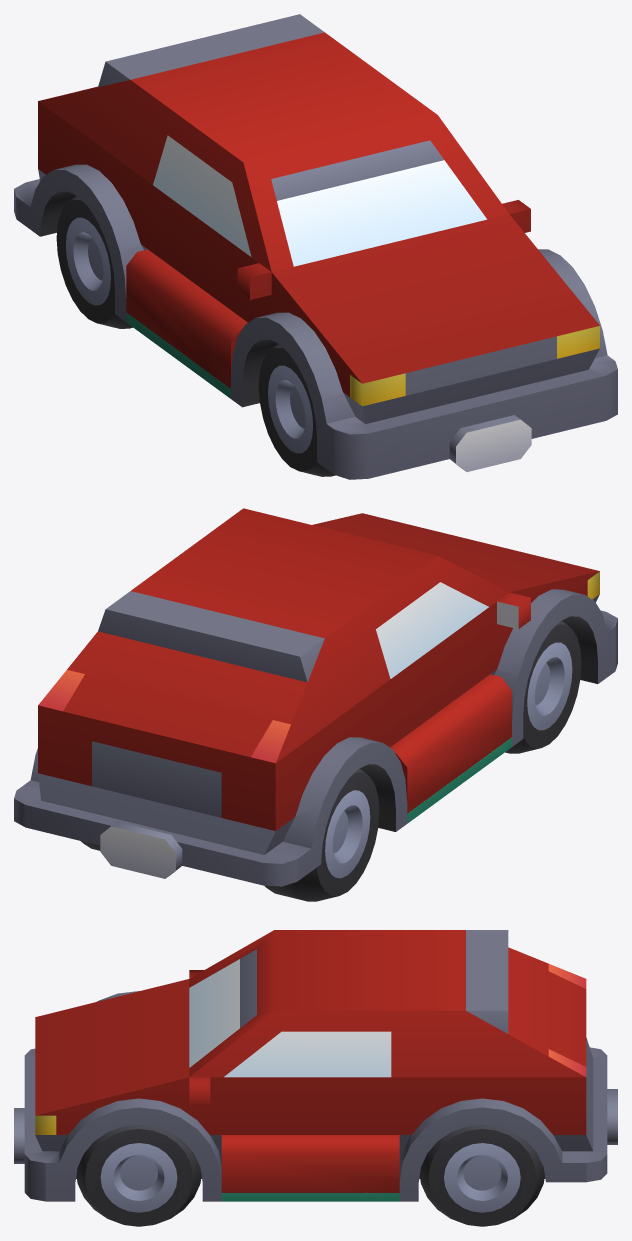
Rendered from golf.glb.
The picture shows the model from 3 angles, top to bottom: view 1: azimuth 30°, elevation 25°; view 2: azimuth 150°, elevation 25°; view 3: azimuth 270°, elevation 25°; orthographic projection. The views are drawn at different scales.
Visible parts, largest first — view 1: body, wheel-back-right, wheel-front-right; view 2: body, wheel-back-right, wheel-front-right; view 3: body, wheel-front-left, wheel-back-left.
Part boxes in pixels (bbox=[...]): body: bbox=[14, 14, 617, 479]; wheel-back-right: bbox=[56, 196, 132, 328]; wheel-front-right: bbox=[258, 343, 335, 476]; body: bbox=[14, 508, 617, 886]; wheel-back-right: bbox=[264, 768, 379, 901]; wheel-front-right: bbox=[505, 620, 581, 753]; body: bbox=[14, 930, 617, 1201]; wheel-front-left: bbox=[76, 1124, 201, 1226]; wheel-back-left: bbox=[419, 1124, 544, 1226].
Bounding box in the file's own units: 1.3 × 1.1 × 2.85.
1 material, 1 textured.
